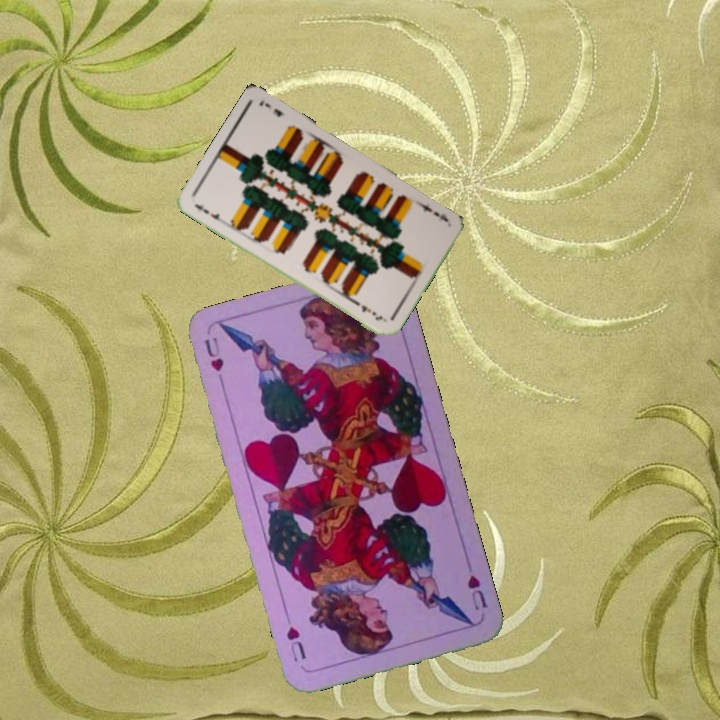E7: (414, 197, 451, 225), (190, 200, 227, 226)
HU: (200, 333, 228, 390), (463, 571, 490, 613)
